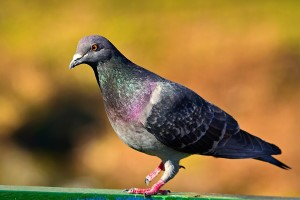pigeon: (66, 32, 293, 196)
